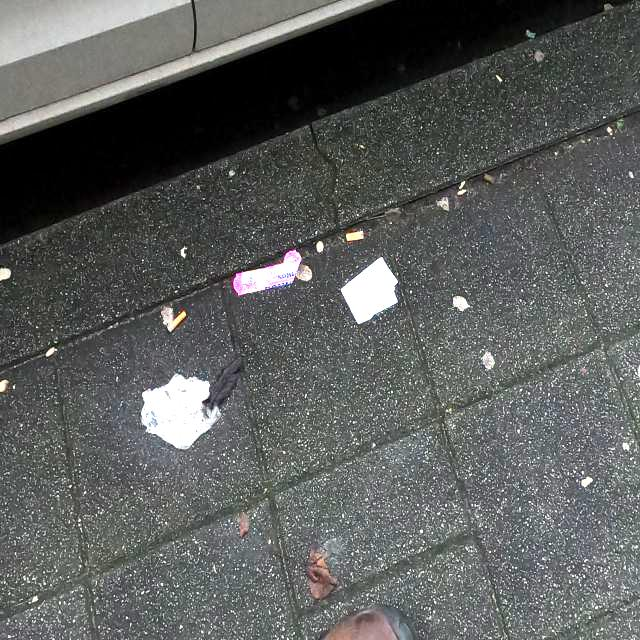Paper: (140, 370, 222, 450), (339, 256, 398, 326)
Plastic: (232, 249, 302, 297)
